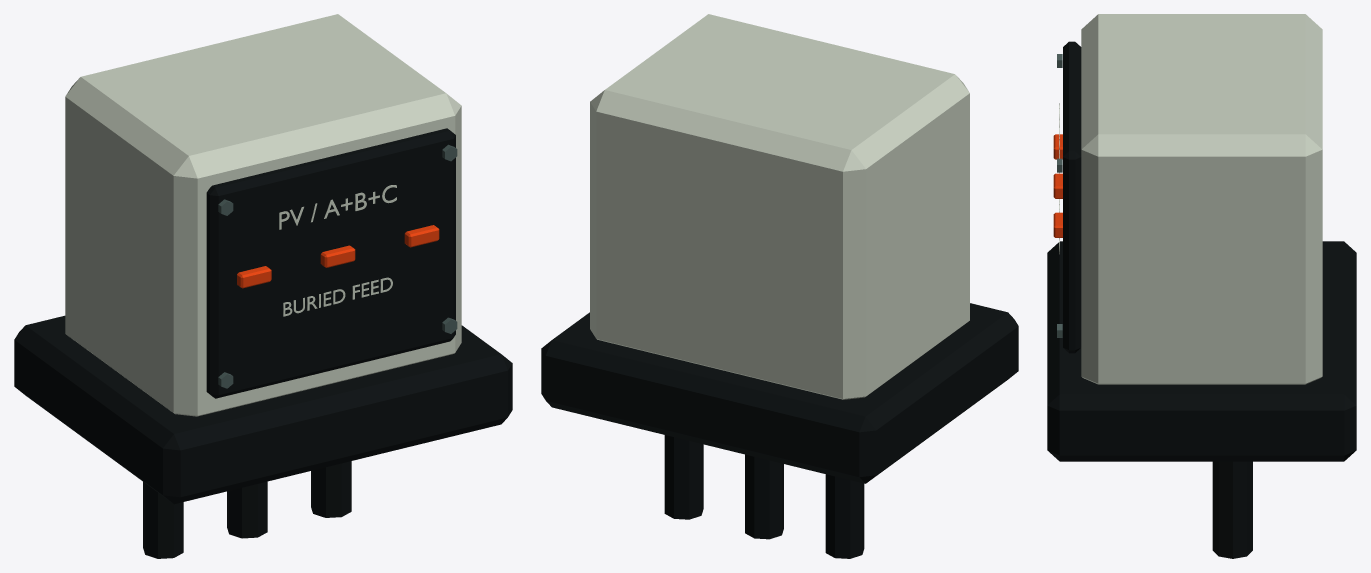
Rendered from SM_MP_Station_Collector.fbx.
The picture shows the model from 3 angles, left to right: view 1: azimuth 30°, elevation 25°; view 2: azimuth 150°, elevation 25°; view 3: azimuth 270°, elevation 25°; orthographic projection. The views are drawn at different scales.
Parts seen in each view (by area): view 1: SM_MP_Station_Collector; view 2: SM_MP_Station_Collector; view 3: SM_MP_Station_Collector.
Boxes of the visible parts, <box> form: SM_MP_Station_Collector: <box>14,14,512,558</box>; SM_MP_Station_Collector: <box>541,14,1018,558</box>; SM_MP_Station_Collector: <box>1047,14,1356,558</box>.
Size of the model in its own units: 125 by 100 by 156.
Materials: 1 (1 with a texture image).
